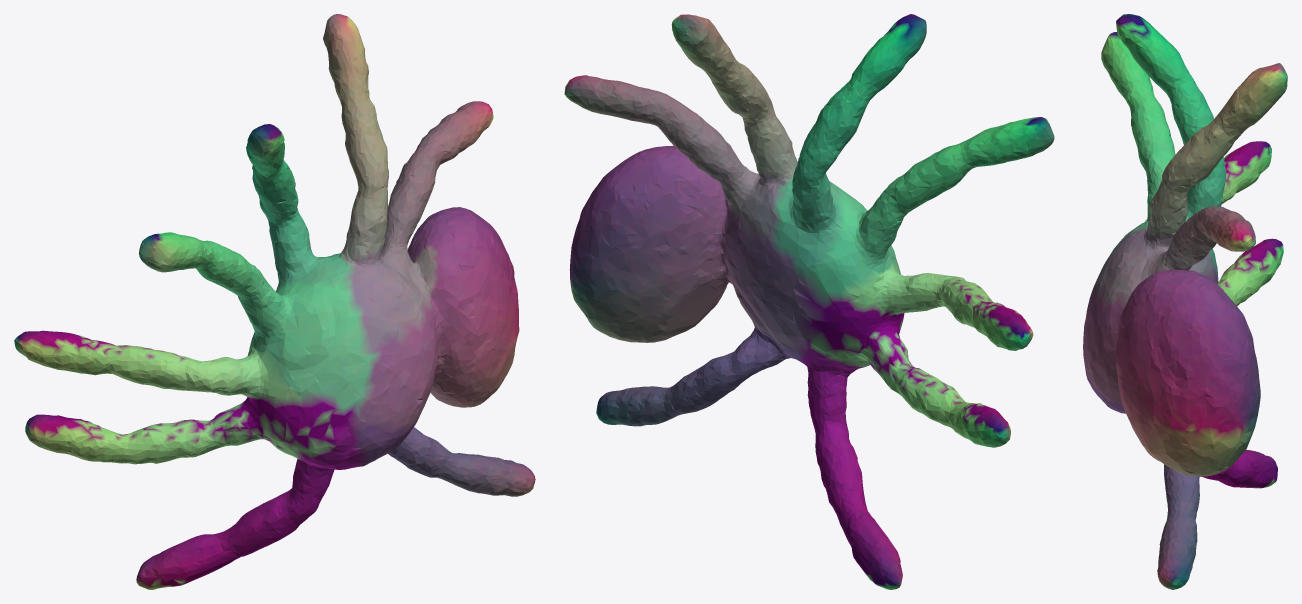
The model's file is spider-20.off.obj.
The picture shows the model from 3 angles, left to right: view 1: azimuth 30°, elevation 25°; view 2: azimuth 150°, elevation 25°; view 3: azimuth 270°, elevation 25°; orthographic projection. The views are drawn at different scales.
Size of the model in its own units: 1.45 by 1.53 by 0.5566.
